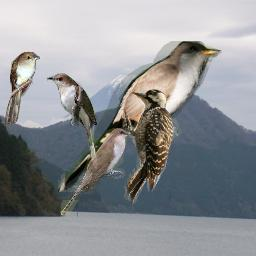Cuckoo: (58, 41, 222, 192), (61, 128, 136, 215), (46, 73, 98, 170), (5, 51, 40, 125)
Woodpecker: (120, 86, 174, 207)
